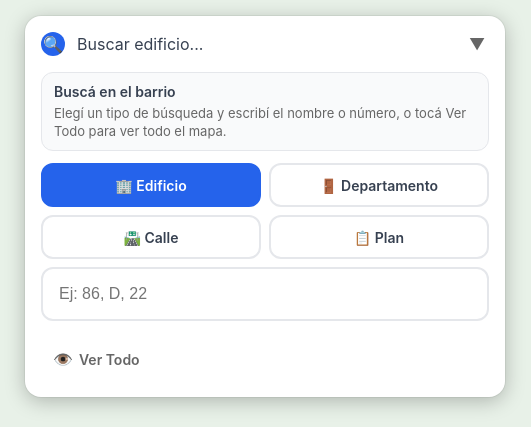
SearchPanel › suggestions combobox › should render the suggestion listbox when the input is focused and suggestions exist
This screenshot has width=531, height=427.
Focus the dropdown named "Buscar" at x=265, y=294, box [41,267,489,321]
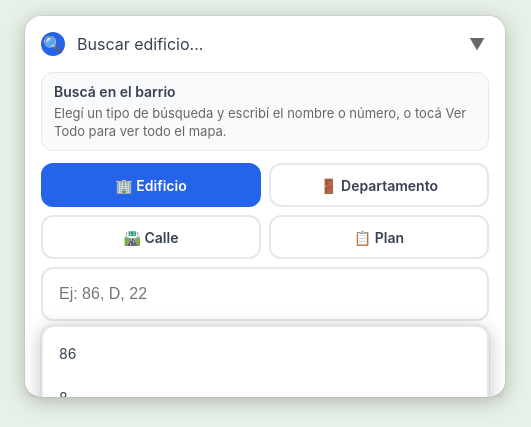
Expected: the number of options is 2
Expected: the option "86" is shown, [59,345,76,362]
